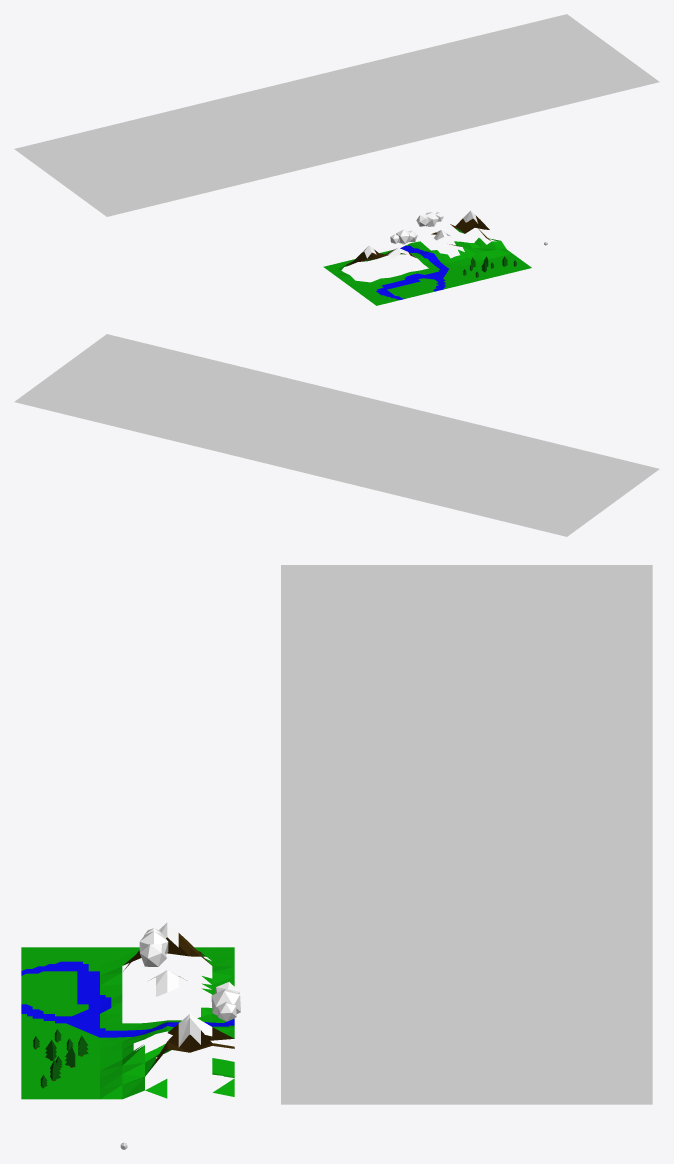
File: scene(old).glb
The picture shows the model from 3 angles, top to bottom: view 1: azimuth 30°, elevation 25°; view 2: azimuth 150°, elevation 25°; view 3: azimuth 270°, elevation 25°; orthographic projection. The views are drawn at different scales.
Visible parts, largest first — view 1: Plane.001, Plane; view 2: Plane.001; view 3: Plane.001, Plane, Icosphere.001, Icosphere, Cone.004.
Boxes of the visible parts, left/top/right/bottom form: Plane.001: left=14, top=14, right=659, bottom=216; Plane: left=323, top=210, right=531, bottom=305; Plane.001: left=14, top=334, right=659, bottom=536; Plane.001: left=281, top=565, right=652, bottom=1104; Plane: left=21, top=922, right=234, bottom=1099; Icosphere.001: left=211, top=982, right=240, bottom=1021; Icosphere: left=139, top=928, right=168, bottom=966; Cone.004: left=33, top=1029, right=88, bottom=1088.
Size of the model in its own units: 75.24 by 12.66 by 37.19.
